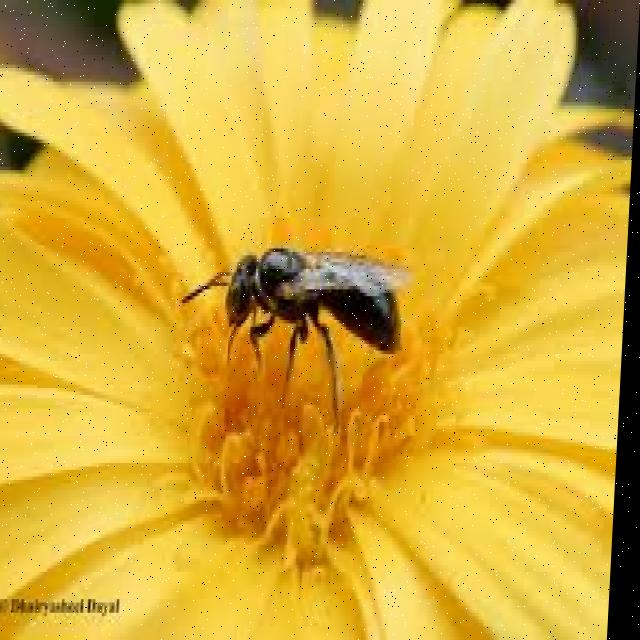Braunsapis: (171, 217, 420, 395)
